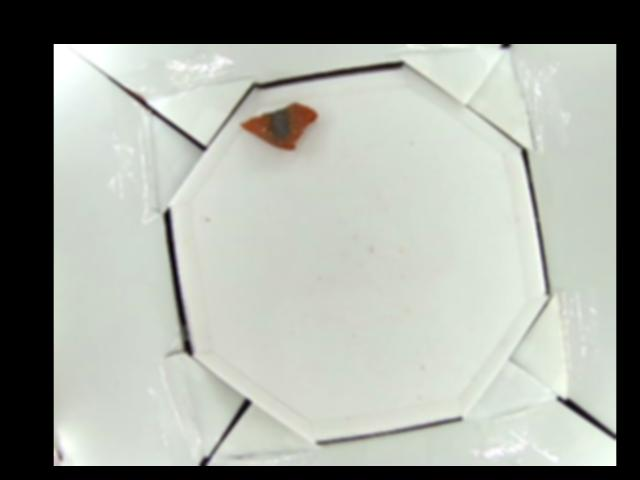Brisk: (241, 101, 317, 151)
